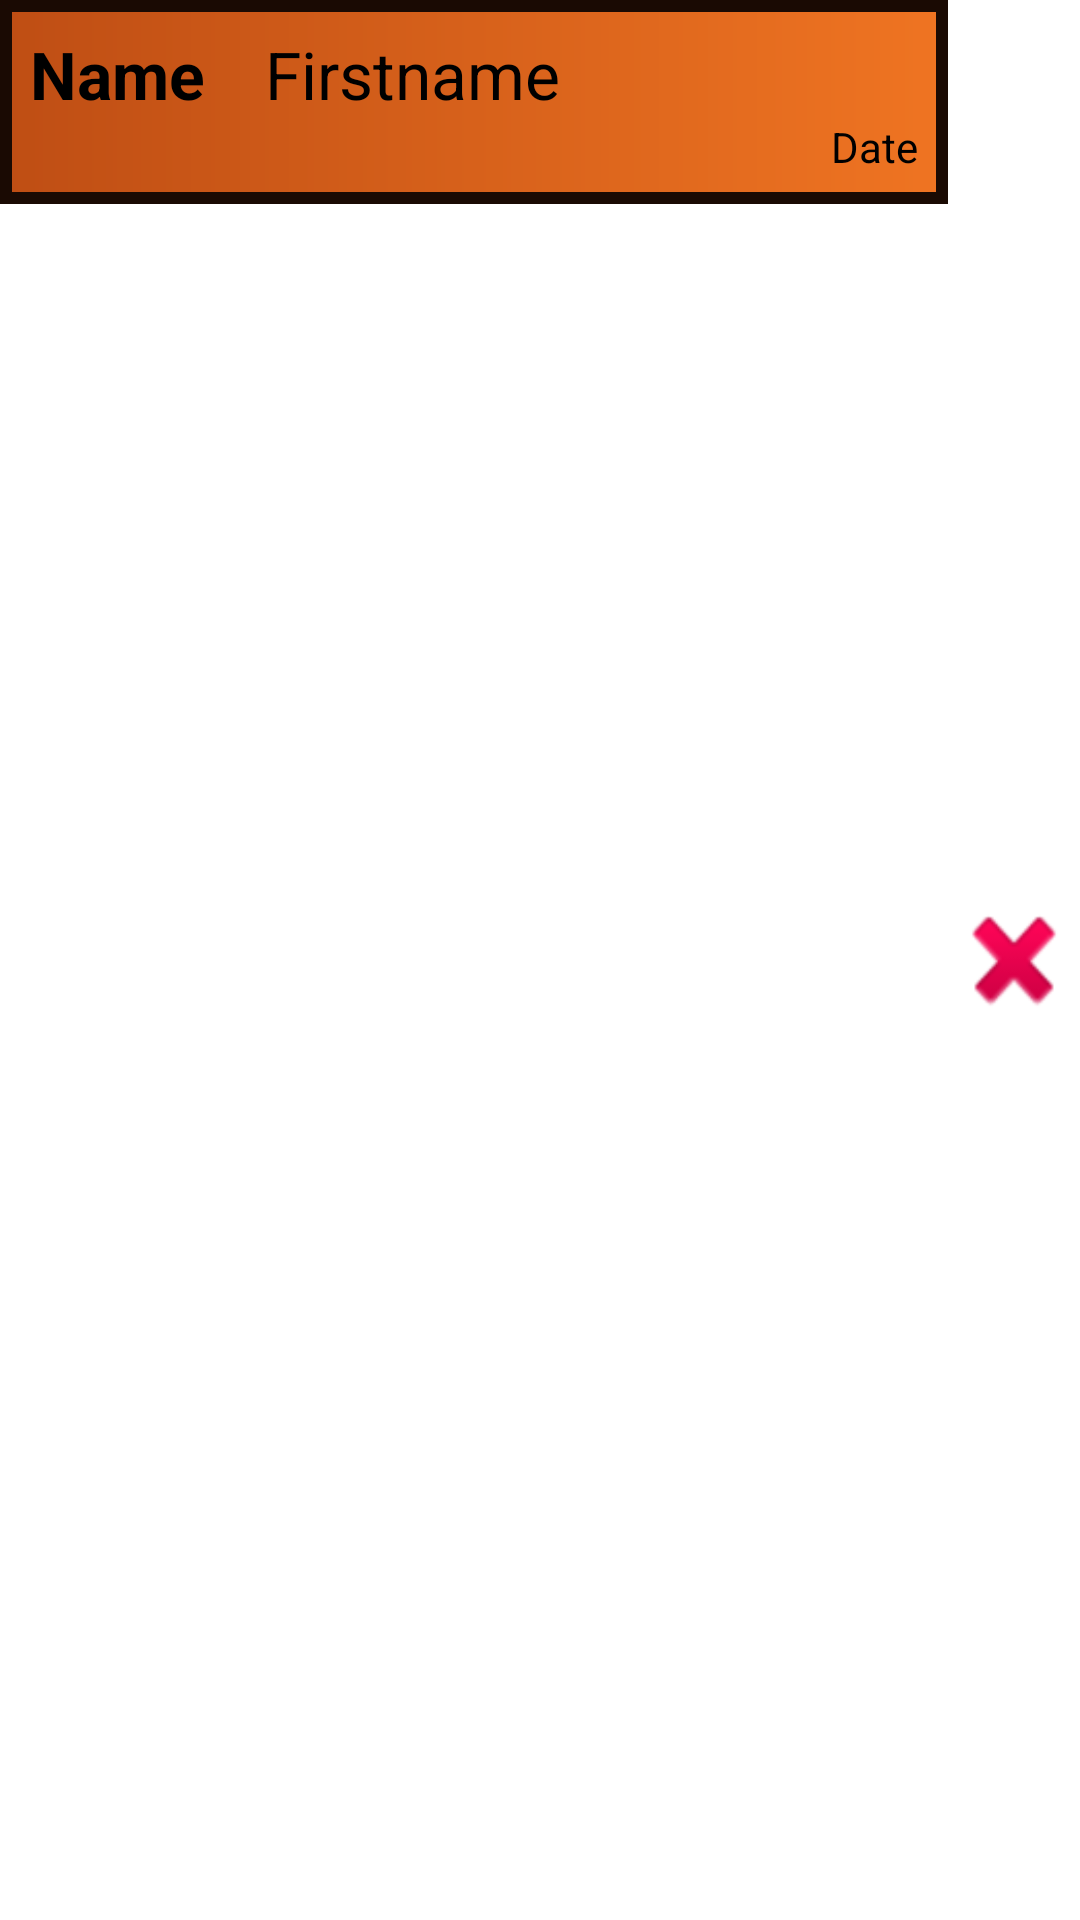

Named icons in this screenshot (1080px×1920px) and their bounding boxes, bbox=(x1, y1, x2, y2):
delete: bbox=(972, 916, 1056, 1005)
